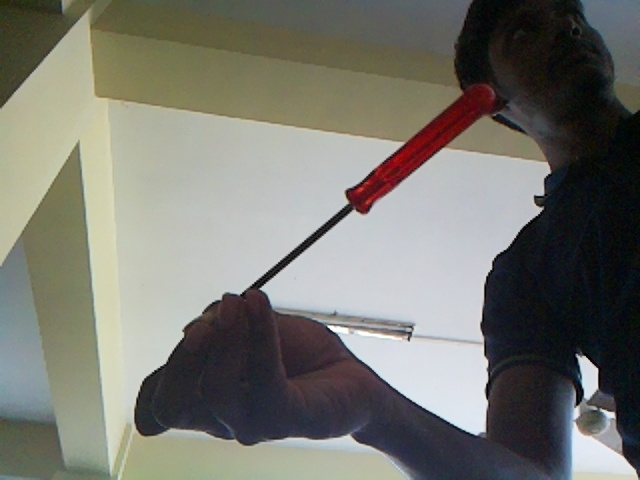redskrew: (255, 82, 500, 277)
